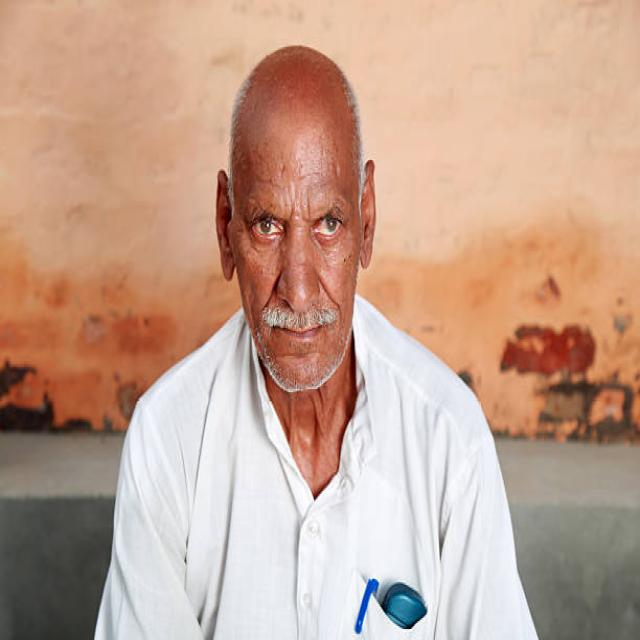no_dark_circle: (246, 230, 282, 258), (316, 235, 346, 251)
